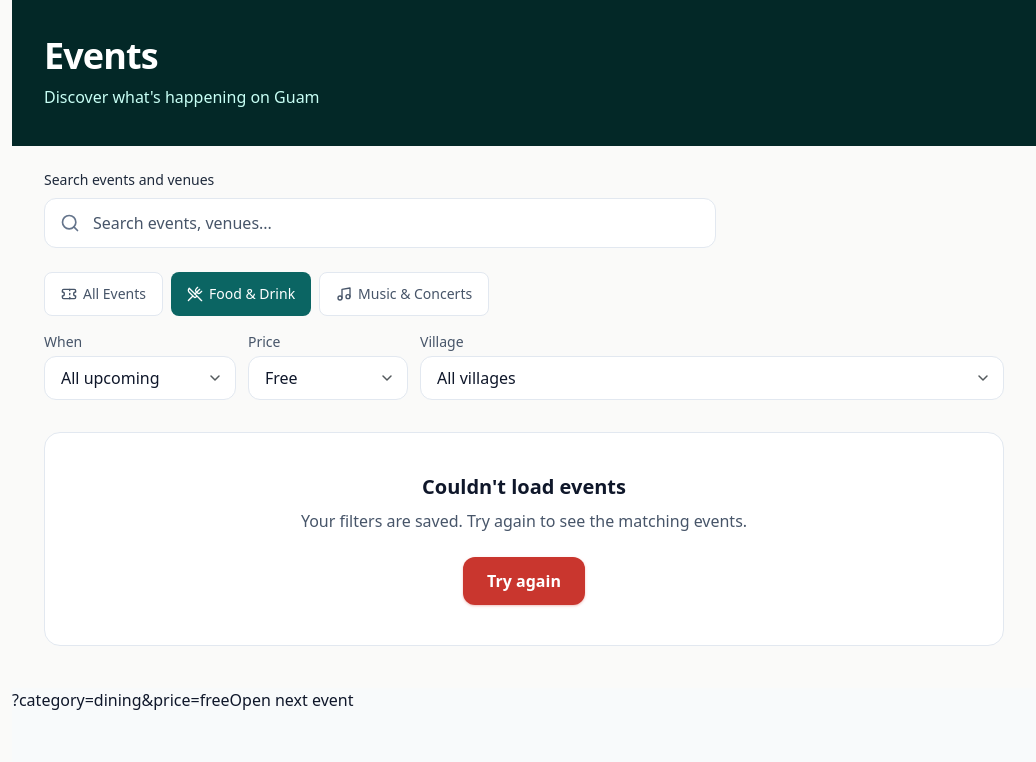
Scenario: event guide filters and recovery › keeps an outage distinct from empty results and retries the saved filters
expect the message shows "Your filters are saved": met, box [301,510,747,532]
Click the button "Try again".
click(524, 581)  # box [463,557,585,605]
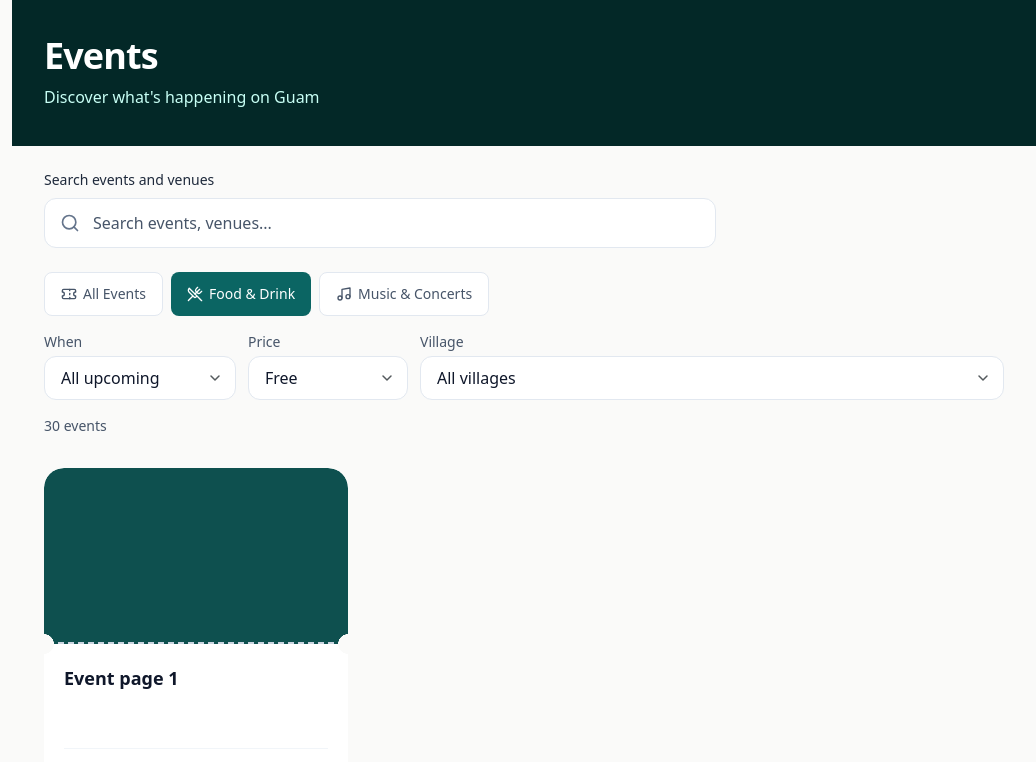
expect the dropdown labelled "Price" shows "Free": met, box [248,356,408,400]
expect the heading "Event page 1" is shown: met, box [64,666,179,690]
